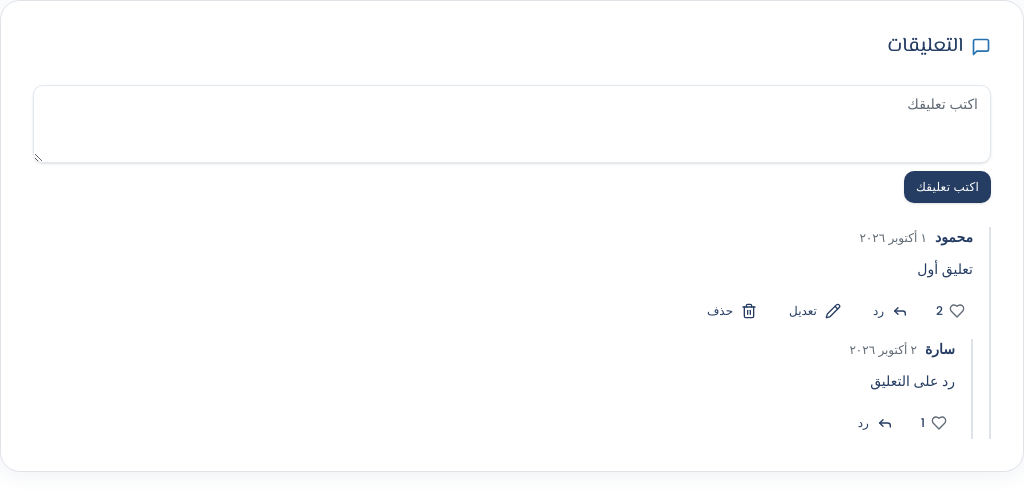
Test case: the comments of a post of the blog › gives a comment a like and writes the server answer into the tree
Click the button named "أعجبني التعليق (2)" at (951, 311), box [928,297,973,325]
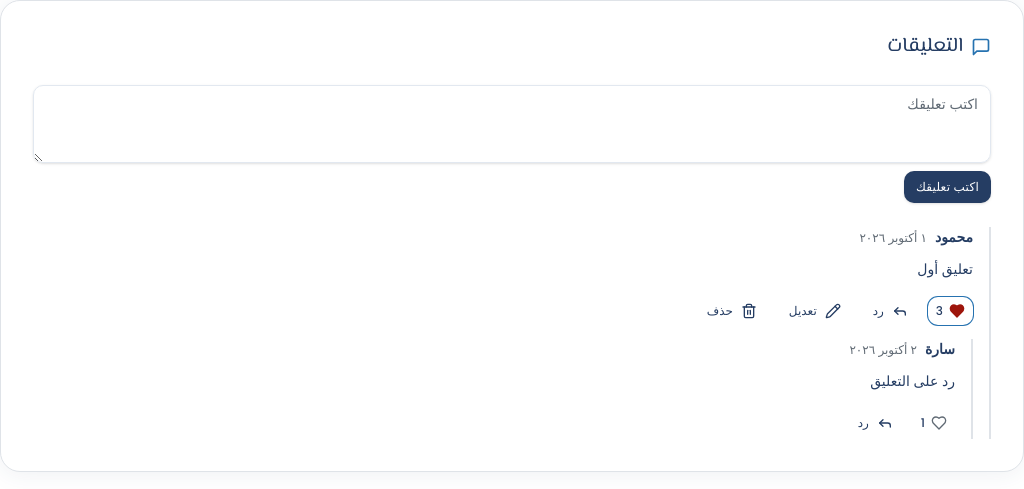
Now the button named "أعجبك التعليق (3)" is shown, box [928,297,973,325]
